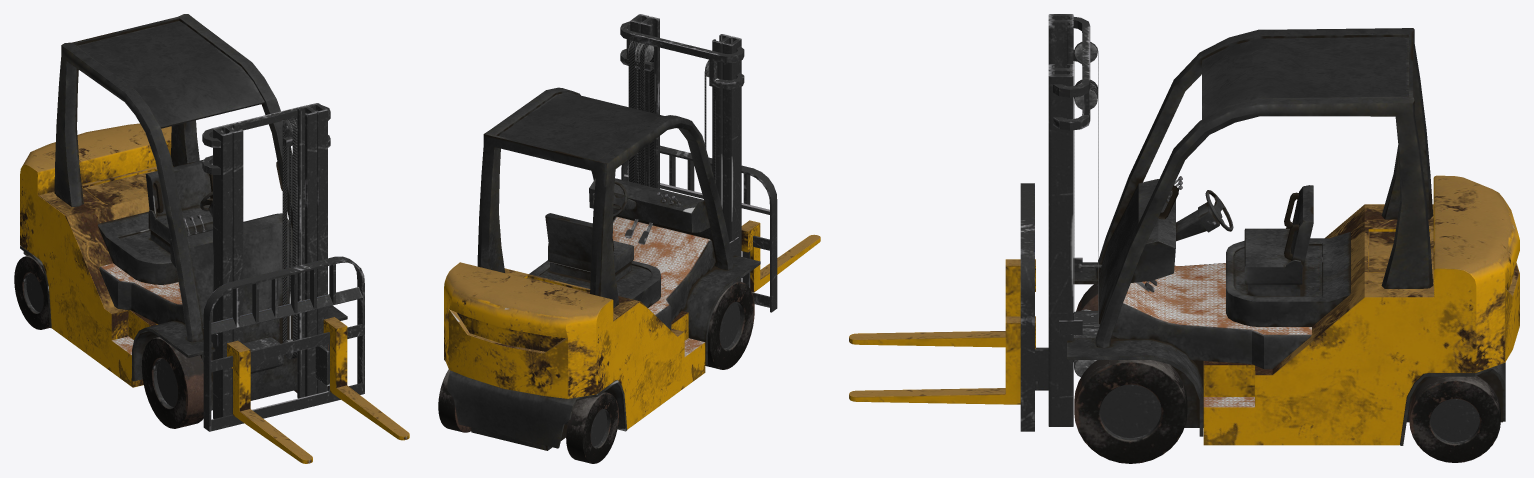
File: forklift.glb
3 views of the same model, side by side, from view 1: azimuth 30°, elevation 25°; view 2: azimuth 150°, elevation 25°; view 3: azimuth 270°, elevation 25° (orthographic). The views are drawn at different scales.
Visible parts, largest first — view 1: Cylinder.009; view 2: Cylinder.009; view 3: Cylinder.009.
Boxes of the visible parts, x1,y1,x2,y2 form: Cylinder.009: [14, 14, 409, 463]; Cylinder.009: [438, 14, 820, 463]; Cylinder.009: [849, 14, 1519, 463].
Bounding box in the file's own units: 1.22 × 2.27 × 3.69.
1 material, 1 textured.
